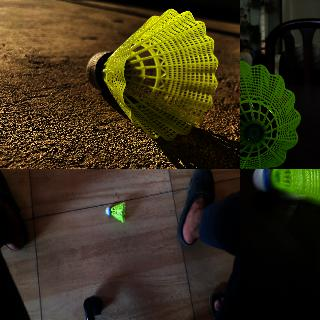shuttlecock: (87, 8, 217, 140), (240, 61, 301, 168), (251, 169, 319, 212), (106, 202, 125, 222)
